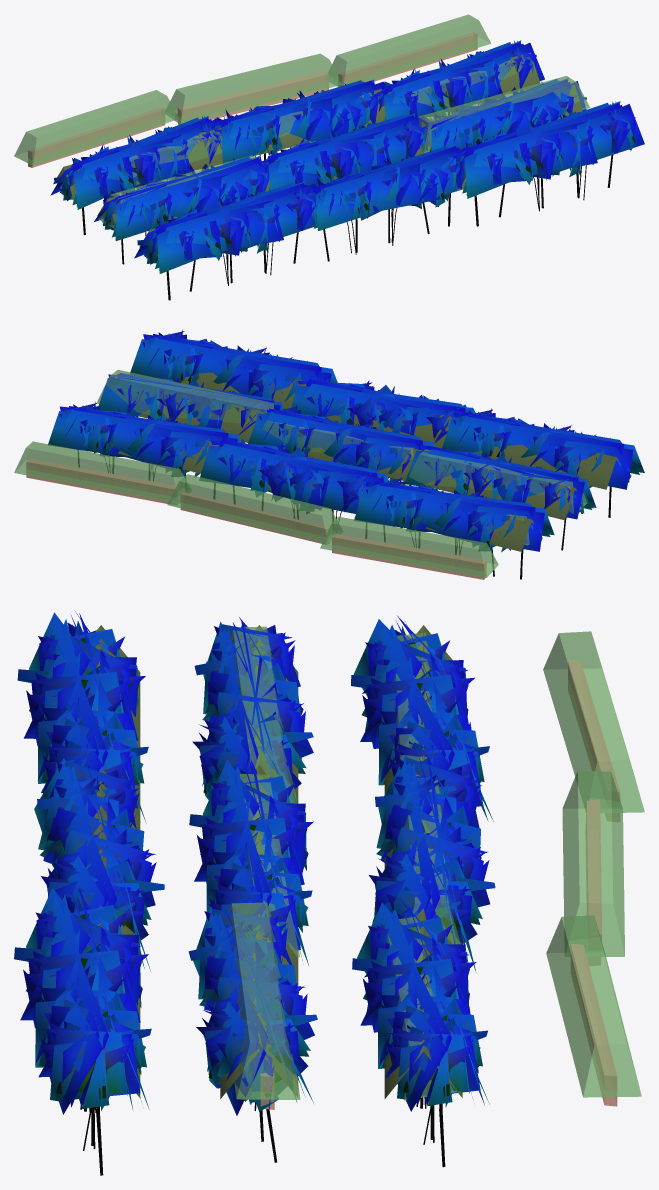
File: grape_vine_group.dae
3 views of the same model, one above another, from view 1: azimuth 30°, elevation 25°; view 2: azimuth 150°, elevation 25°; view 3: azimuth 270°, elevation 25° (orthographic). The views are drawn at different scales.
Visible parts, largest first — view 1: grape_vine_group_a200, Colmesh-1, grape_vine_group_a1600, grape_vine_group_a700, grape_vine_group_a30; view 2: grape_vine_group_a200, Colmesh-1, grape_vine_group_a1600, grape_vine_group_a700, grape_vine_group_a30; view 3: grape_vine_group_a1600, grape_vine_group_a700, Colmesh-1, grape_vine_group_a200, grape_vine_group_a30.
Boxes of the visible parts, box(x1,y1,x2,y2) form: grape_vine_group_a200: box(50, 40, 644, 273); Colmesh-1: box(14, 14, 589, 230); grape_vine_group_a1600: box(61, 40, 635, 300); grape_vine_group_a700: box(54, 51, 635, 263); grape_vine_group_a30: box(53, 52, 582, 256); grape_vine_group_a200: box(48, 334, 644, 551); Colmesh-1: box(14, 370, 586, 579); grape_vine_group_a1600: box(60, 329, 631, 579); grape_vine_group_a700: box(63, 332, 629, 550); grape_vine_group_a30: box(114, 372, 618, 551); grape_vine_group_a1600: box(14, 621, 495, 1175); grape_vine_group_a700: box(20, 621, 490, 1110); Colmesh-1: box(228, 626, 644, 1109); grape_vine_group_a200: box(26, 611, 493, 1115); grape_vine_group_a30: box(92, 625, 462, 1098).
Bounding box in the file's own units: 16.01 × 9.39 × 2.59.
